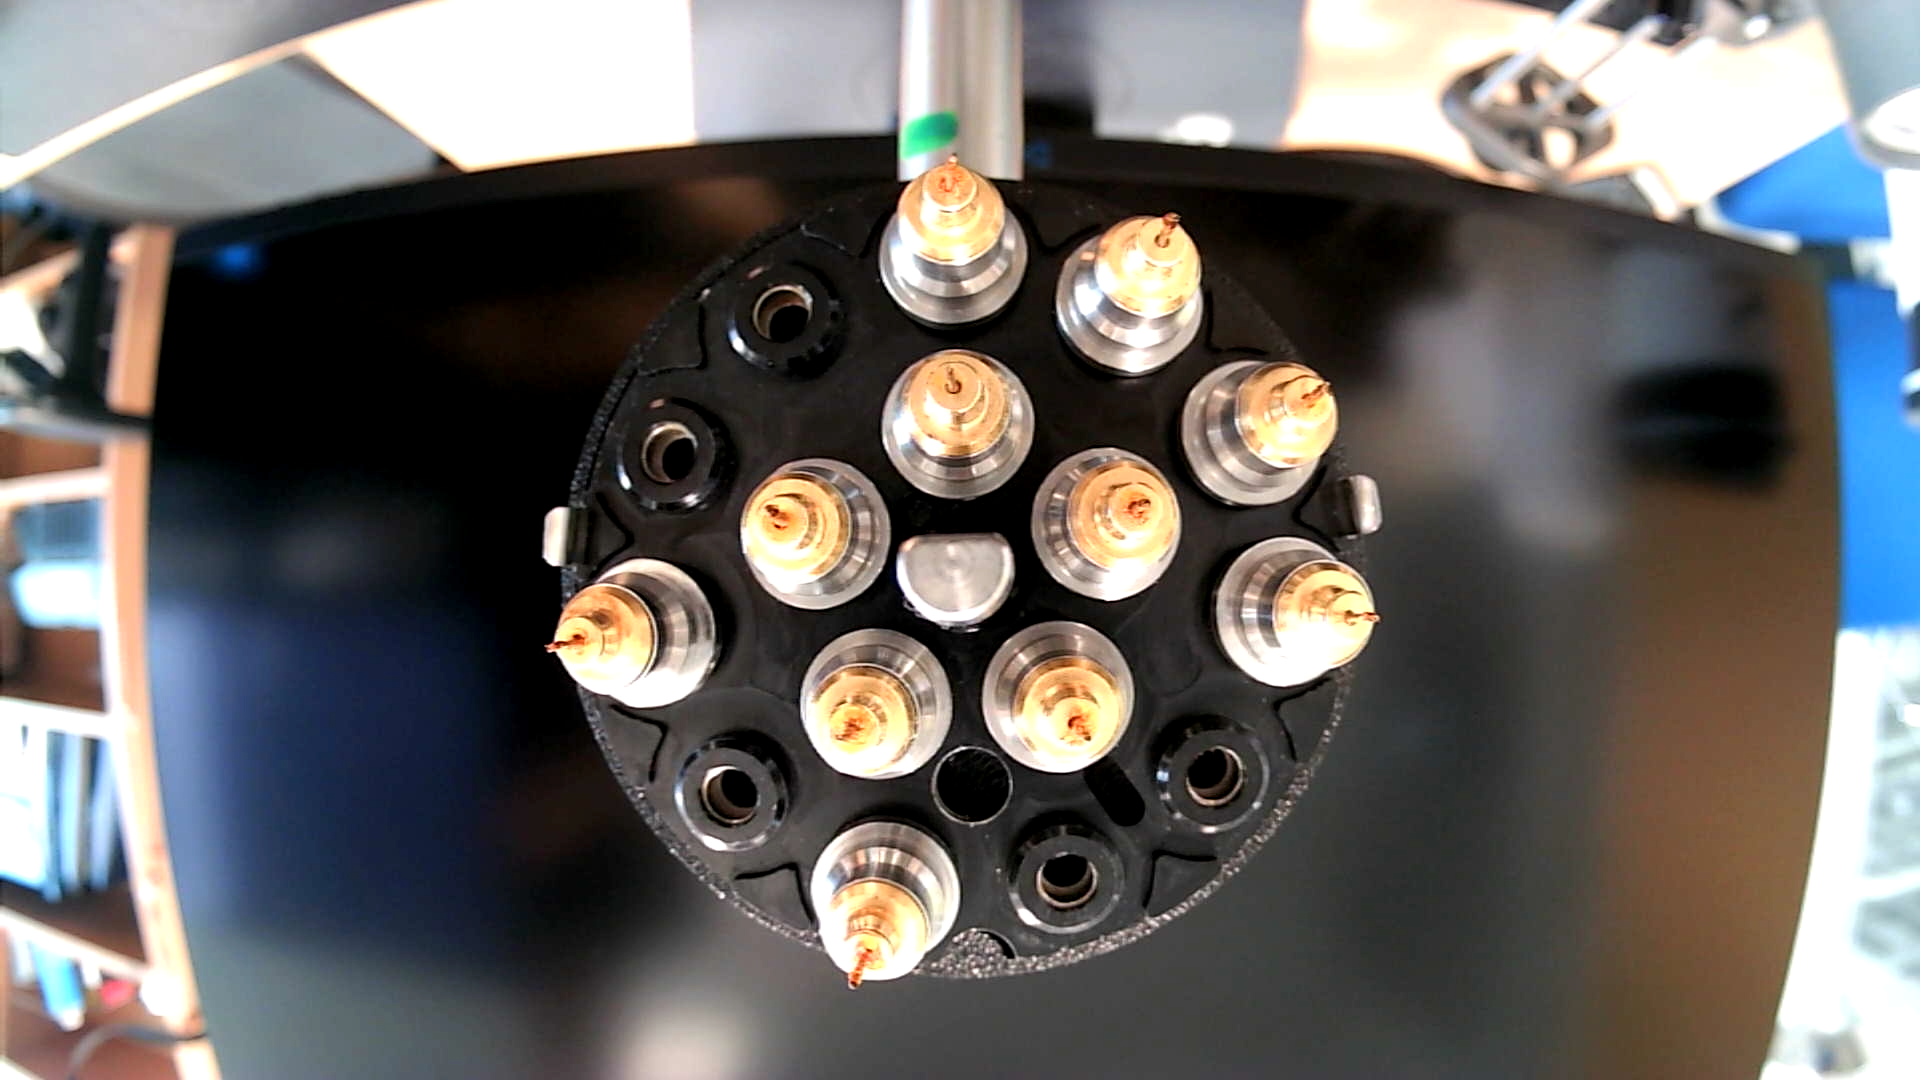empty: (669, 723, 795, 857), (1151, 708, 1275, 845), (611, 390, 737, 524), (1009, 814, 1130, 938), (725, 258, 853, 376)
hole: (928, 744, 1015, 829)
pin: (541, 553, 725, 711), (807, 814, 963, 992), (1205, 533, 1377, 690), (880, 153, 1033, 328), (1055, 208, 1207, 380), (796, 625, 956, 782), (877, 345, 1036, 502), (1029, 446, 1183, 605), (1178, 359, 1337, 513), (977, 621, 1133, 778), (738, 455, 894, 611)
rod: (891, 527, 1021, 632)
